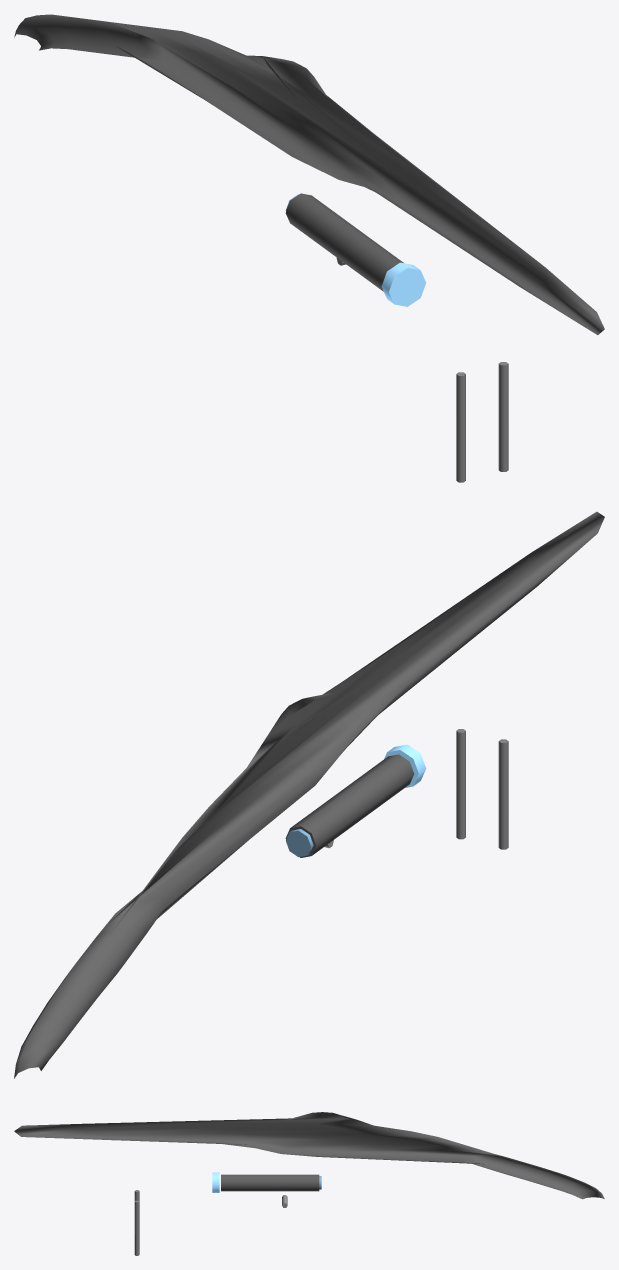
The model's file is weapon_sniper.glb.
3 views of the same model, one above another, from view 1: azimuth 30°, elevation 25°; view 2: azimuth 150°, elevation 25°; view 3: azimuth 270°, elevation 25° (orthographic). The views are drawn at different scales.
Visible parts, largest first — view 1: WeaponSniper, scope_body, scope_lens_front, bipod_R, bipod_L; view 2: WeaponSniper, scope_body, bipod_L, bipod_R; view 3: WeaponSniper, scope_body, bipod_R.
Part boxes in pixels (box(x1,y1,x2,y2)): WeaponSniper: box(14, 14, 604, 335); scope_body: box(285, 193, 403, 291); scope_lens_front: box(381, 262, 425, 306); bipod_R: box(498, 362, 508, 471); bipod_L: box(456, 372, 465, 482); WeaponSniper: box(14, 511, 604, 1078); scope_body: box(285, 754, 413, 857); bipod_L: box(498, 739, 508, 849); bipod_R: box(456, 729, 465, 839); WeaponSniper: box(14, 1112, 604, 1199); scope_body: box(221, 1174, 319, 1191); bipod_R: box(134, 1200, 139, 1255).
Size of the model in its own units: 0.0743 by 0.3036 by 1.2.
